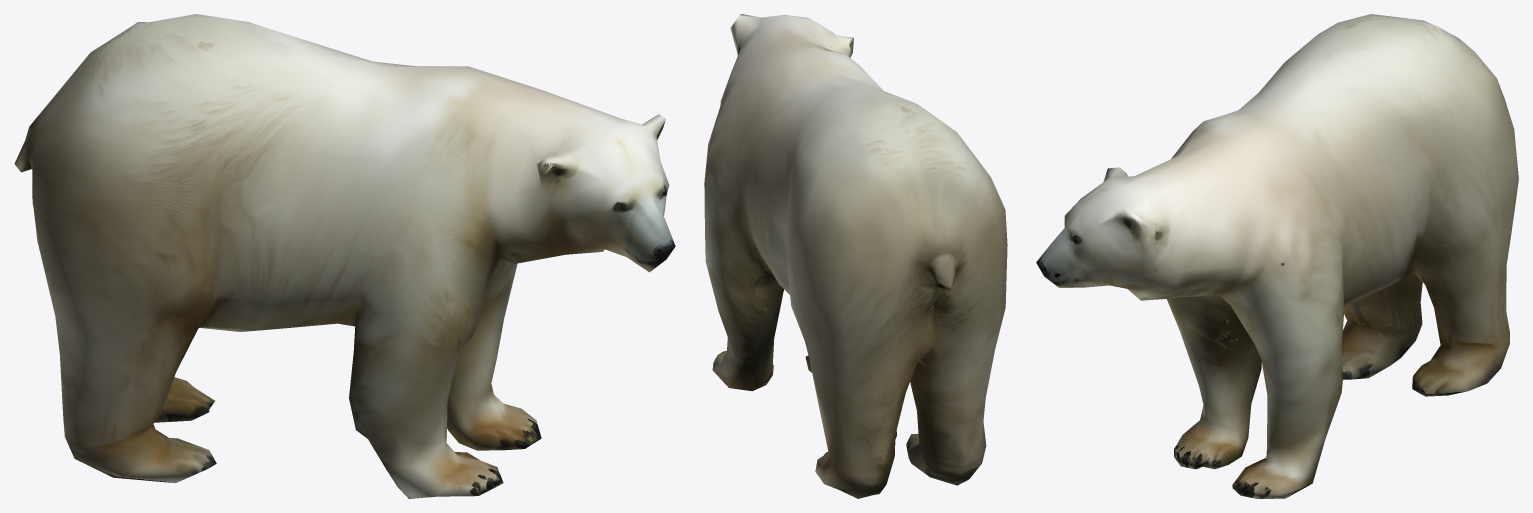
File: polar_bear_single_1500.glb
3 renders of one model, left to right at view 1: azimuth 30°, elevation 25°; view 2: azimuth 150°, elevation 25°; view 3: azimuth 270°, elevation 25°, orthographic. The views are drawn at different scales.
Bounding box in the file's own units: 0.8586 × 0.7477 × 0.8872.
Materials: 1 (1 with a texture image).
